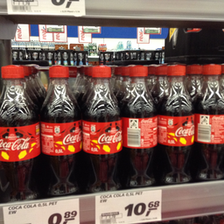soda: (40, 66, 83, 199), (2, 65, 40, 202), (82, 66, 122, 193), (122, 67, 160, 189), (159, 65, 196, 183), (195, 64, 223, 181)
